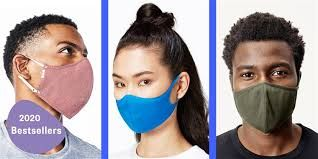with-mask: (111, 21, 202, 136), (223, 13, 304, 141), (9, 13, 94, 128)
